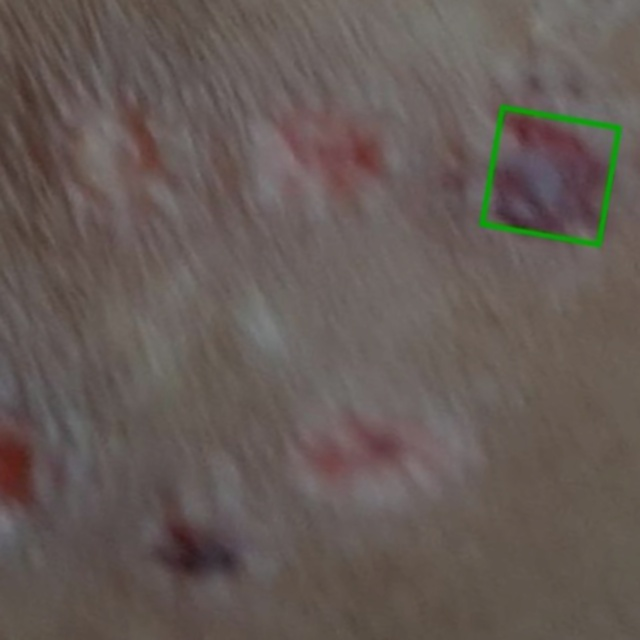Eczema: (482, 107, 619, 244)
